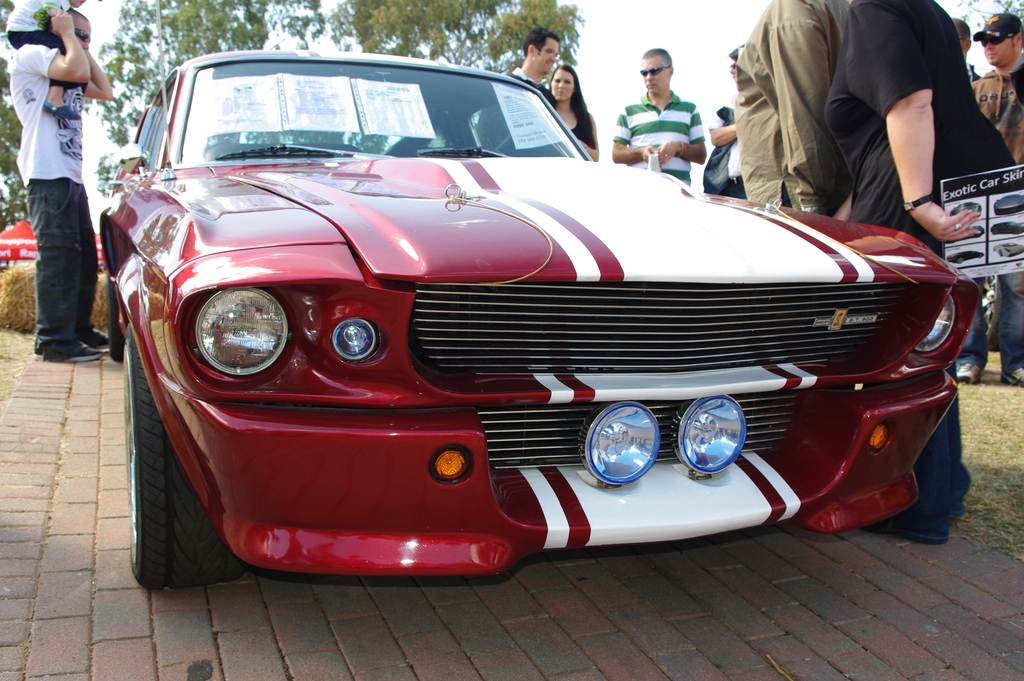Person: (504, 0, 1024, 545), (5, 7, 113, 361), (2, 0, 87, 120)
